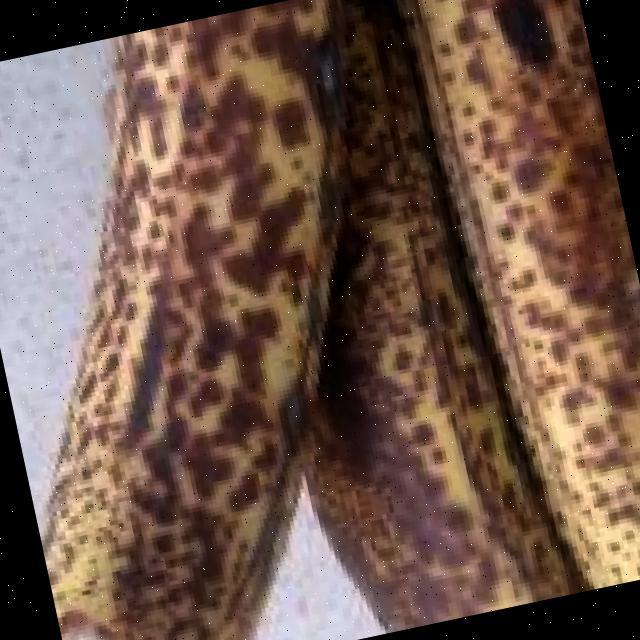Bad_Banana-0 day: (41, 0, 640, 640)
